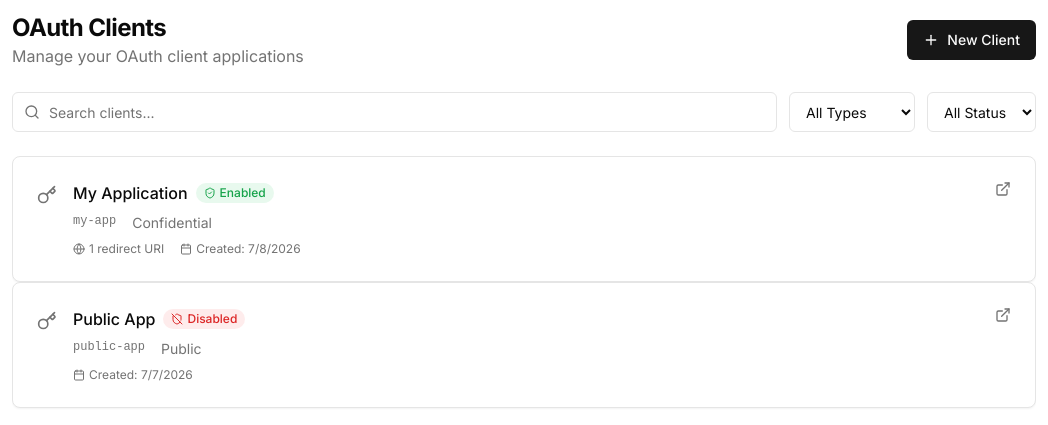
Scenario: OAuthClientsPage › filters clients by search
Expected: the text "My Application" is shown, [73,181,188,205]
Type "Public" into the field with placeholder "Search clients..." at (394, 112), box [12,92,777,132]
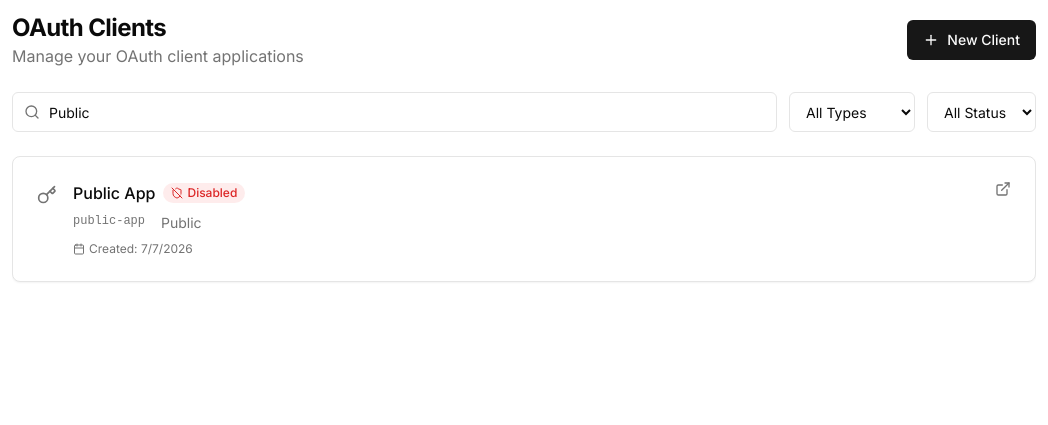
Expected: the text "Public App" is shown, [73,181,156,205]
Result: the link "My Application" is gone
